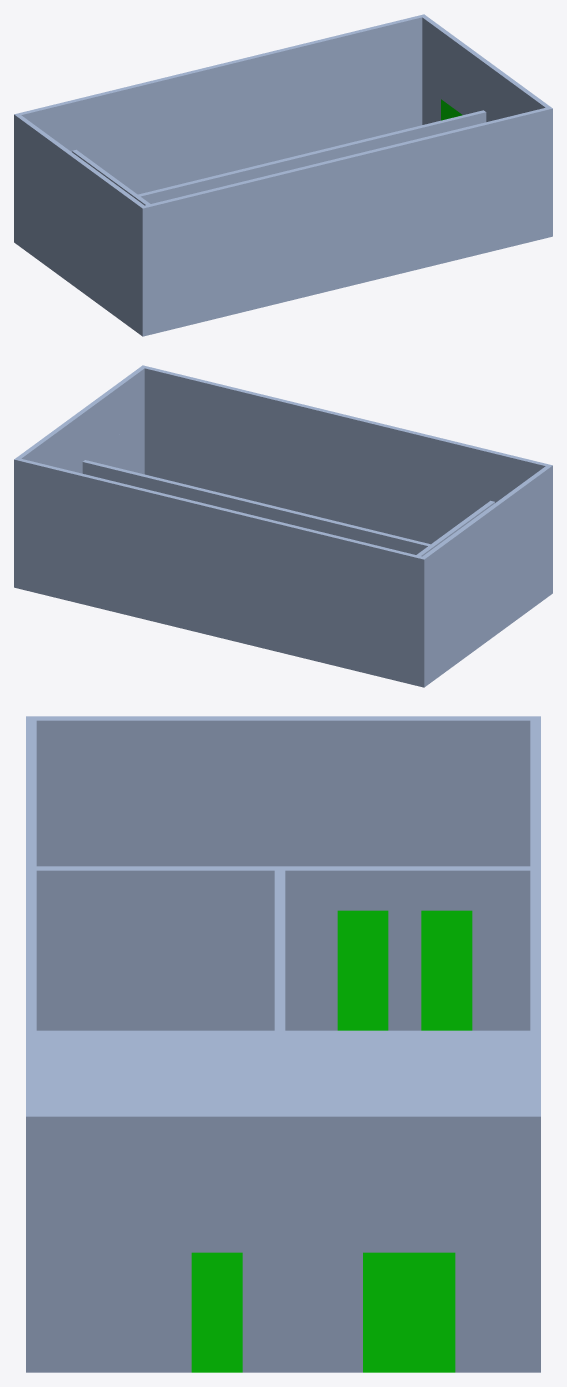
Rendered from Maintenance_Workshop_expansion.glb.
The picture shows the model from 3 angles, top to bottom: view 1: azimuth 30°, elevation 25°; view 2: azimuth 150°, elevation 25°; view 3: azimuth 270°, elevation 25°; orthographic projection. The views are drawn at different scales.
Parts seen in each view (by area): view 1: Floor1; view 2: Floor1; view 3: Floor1.
Boxes of the visible parts, box(x1,y1,x2,y2) form: Floor1: box(14, 14, 552, 336); Floor1: box(14, 365, 552, 687); Floor1: box(26, 716, 540, 1372).
Bounding box in the file's own units: 21.45 × 6.4 × 11.67.
